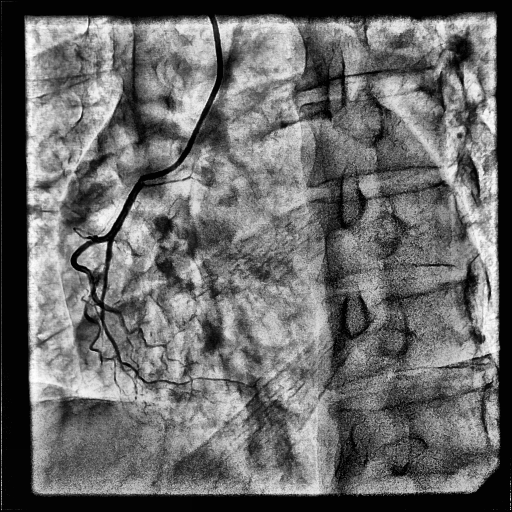rca: (101, 167, 257, 389)
